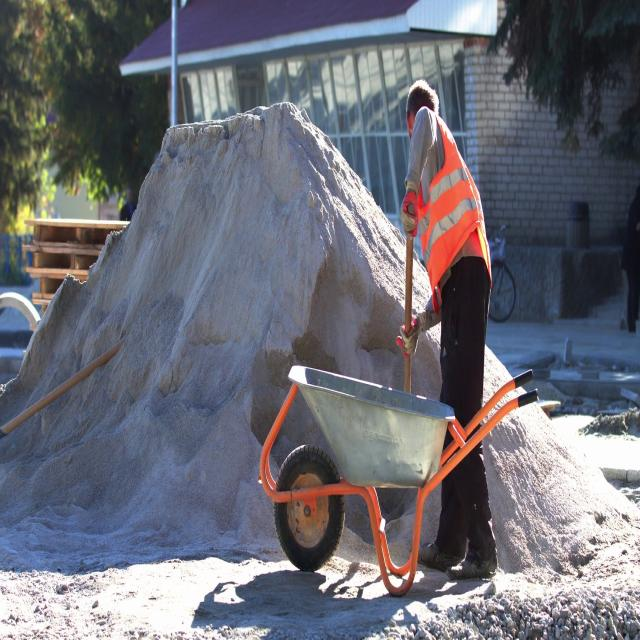gloved: (398, 311, 428, 357)
